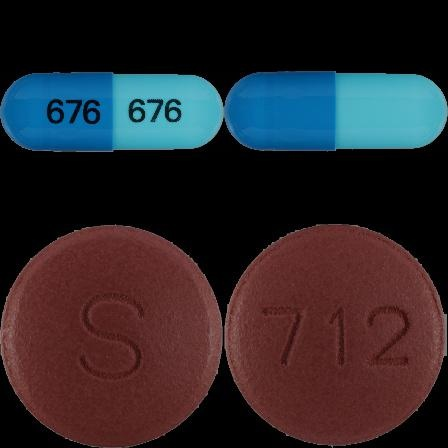47335-676: (0, 0, 224, 224)
